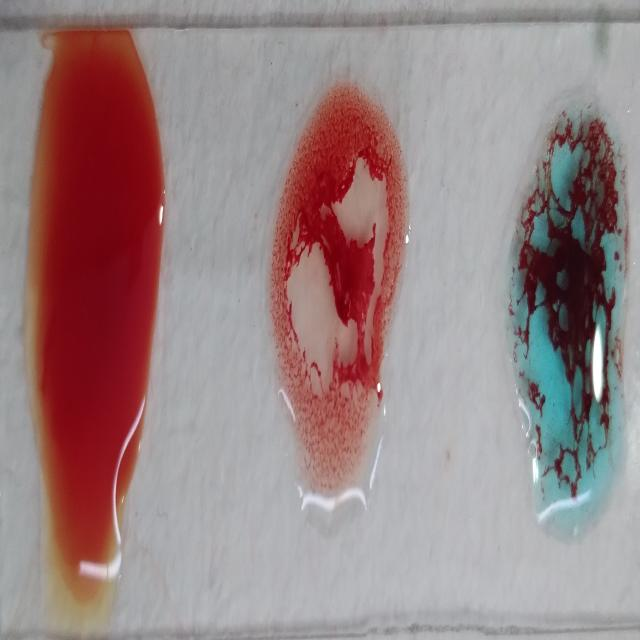A: (514, 100, 628, 535)
D: (274, 85, 404, 524)
